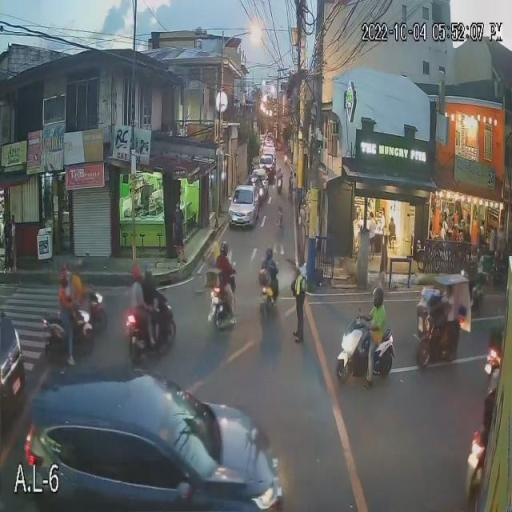helmet: (370, 286, 384, 309), (58, 269, 72, 287), (130, 263, 143, 280), (142, 259, 154, 275), (220, 241, 230, 256), (266, 246, 273, 258), (278, 167, 282, 173)
motorcycle: (334, 322, 395, 381), (124, 306, 176, 359), (40, 310, 94, 356), (206, 276, 238, 328), (259, 269, 277, 315), (276, 179, 283, 193)
rider: (364, 308, 387, 389), (57, 289, 79, 364), (130, 282, 156, 345), (216, 256, 236, 324), (143, 276, 164, 328), (261, 258, 278, 291), (275, 173, 283, 178)
